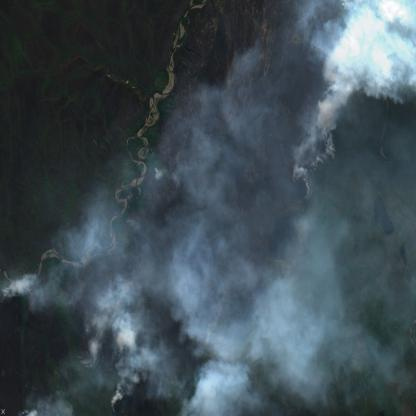fire: (315, 68, 353, 130), (276, 139, 316, 194), (74, 342, 96, 372), (107, 390, 124, 414)
